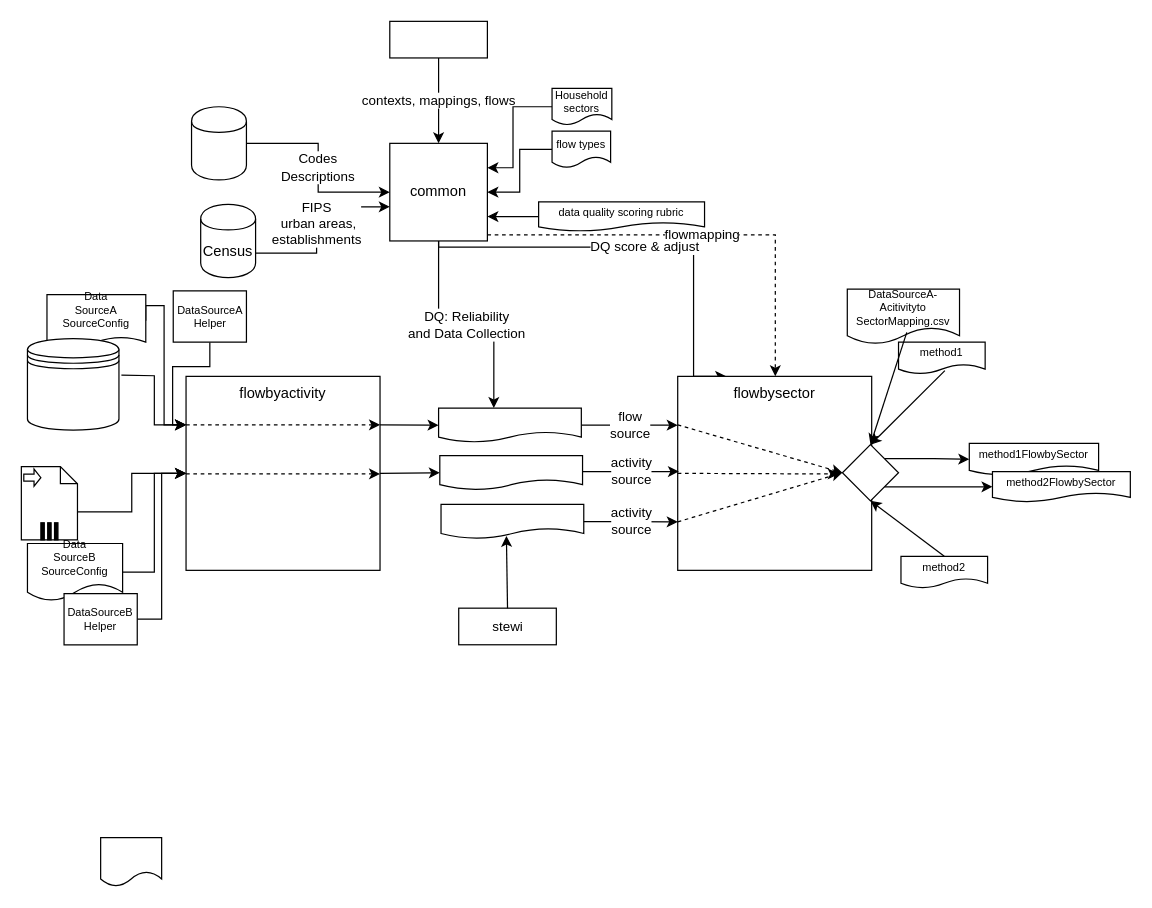
The diagram is 1152 pixels wide and 908 high, and some of its shapes have lost their labels. The centre of each missing label's shape, as x and y in pixels:
"Data SourceA" belongs at point (72, 383).
"Data SourceB" belongs at point (48, 502).
"datasource config.yml" belongs at point (130, 861).
"DataSourceAFlowbyActivity" belongs at point (509, 424).
"DataSourceBFlowbyActivity" belongs at point (511, 472).
"DataSourceCFlowbyActivity" belongs at point (512, 521).
"fedelemflowlist" belongs at point (438, 39).
"NAICS" belongs at point (218, 143).
